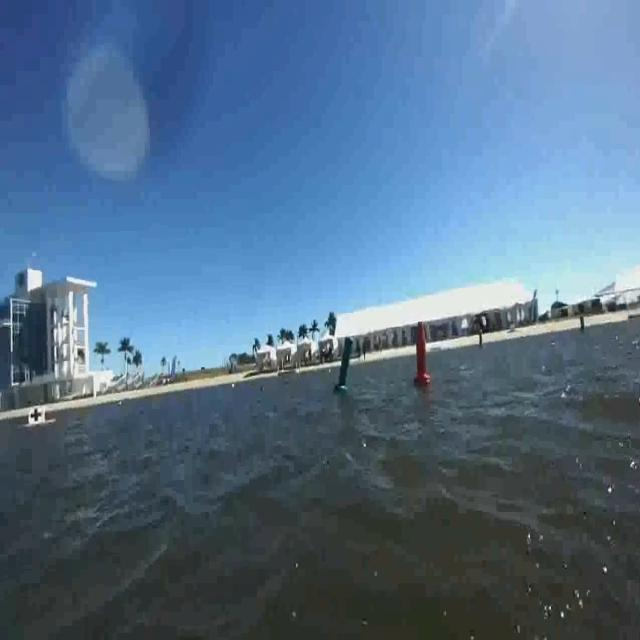green-column-buoy: (336, 336, 356, 394)
red-column-buoy: (413, 321, 431, 387)
